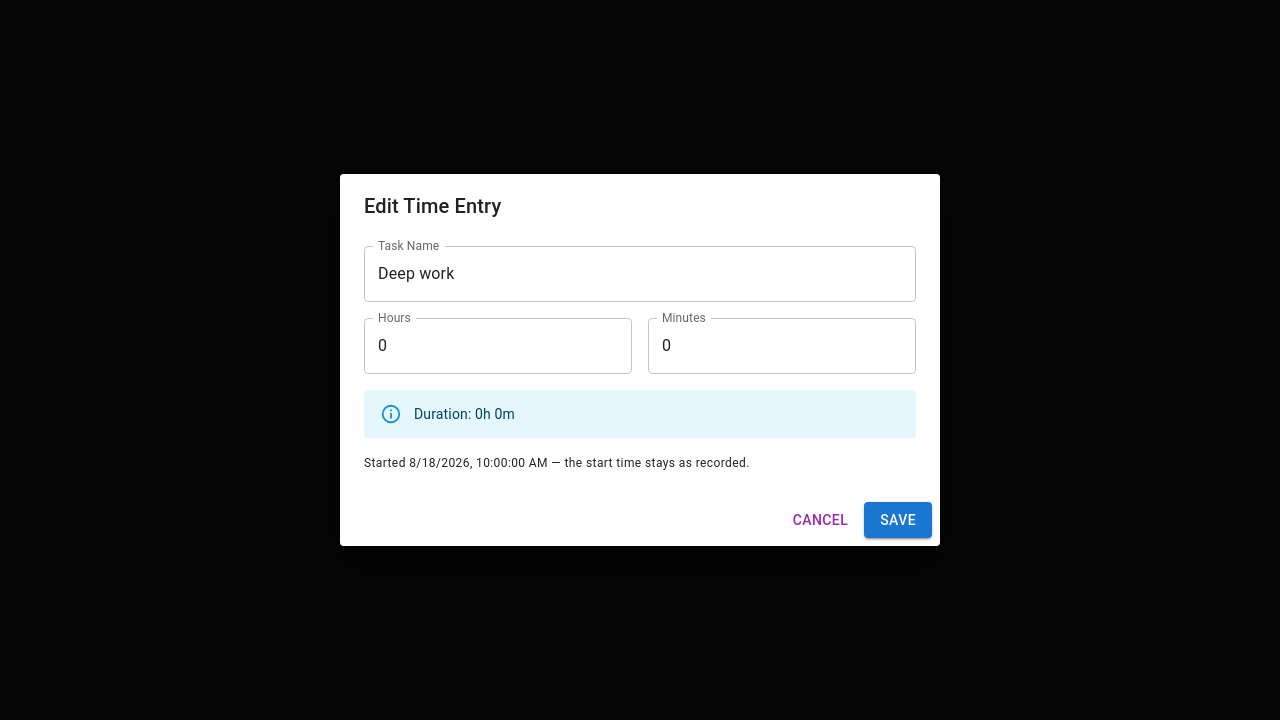
Test case: EditTimeEntryDialog › rejects a zero total duration
What coordinates should you click on to do the following:
click the button "Save"
I would click on:
 (898, 520)
Its box is [864,502,932,538].
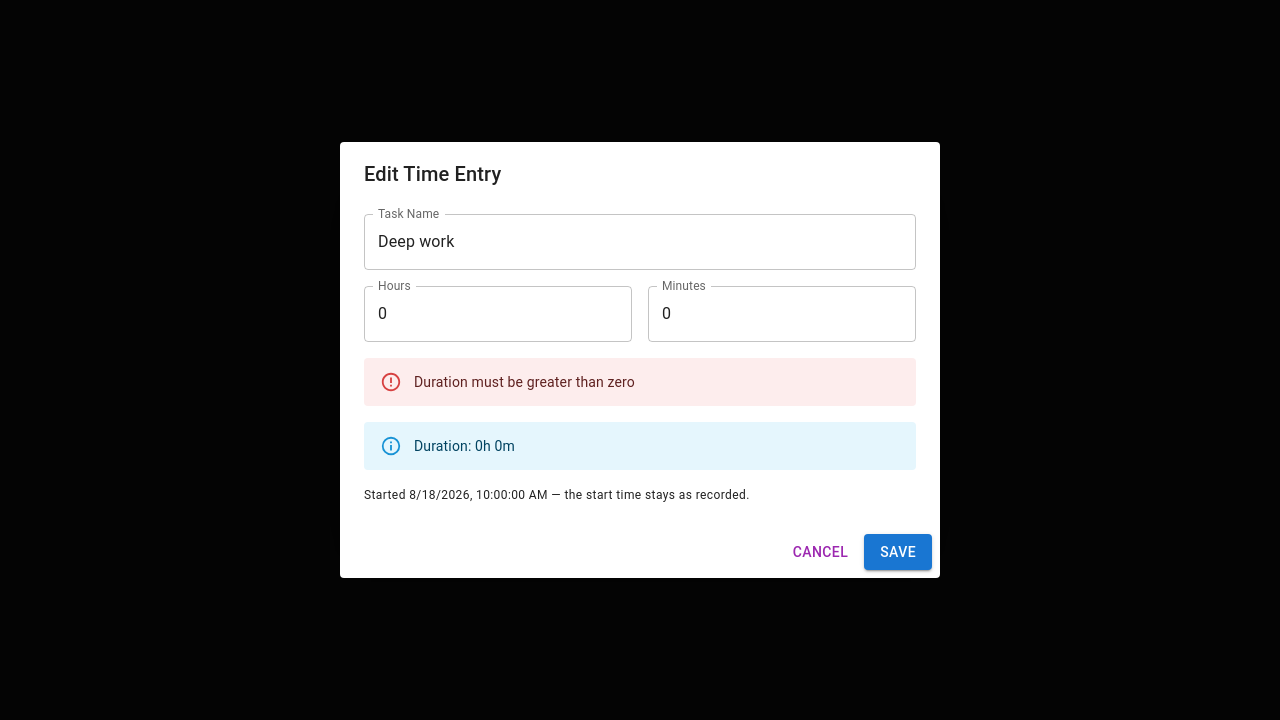
Result: the text "Duration must be greater than zero" is shown at [414,374,635,390]
